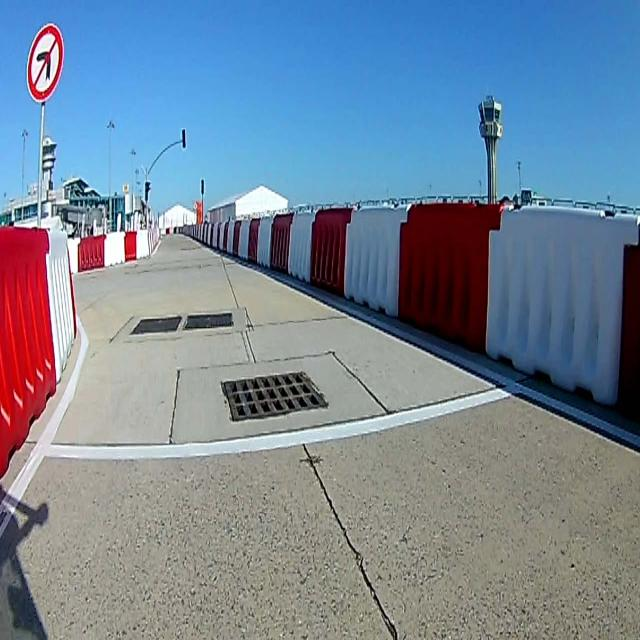soladonulmez: (26, 24, 64, 100)
